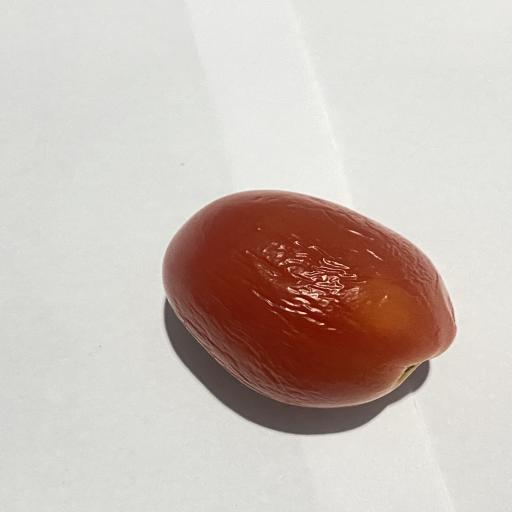spoiled: (164, 190, 455, 407)
